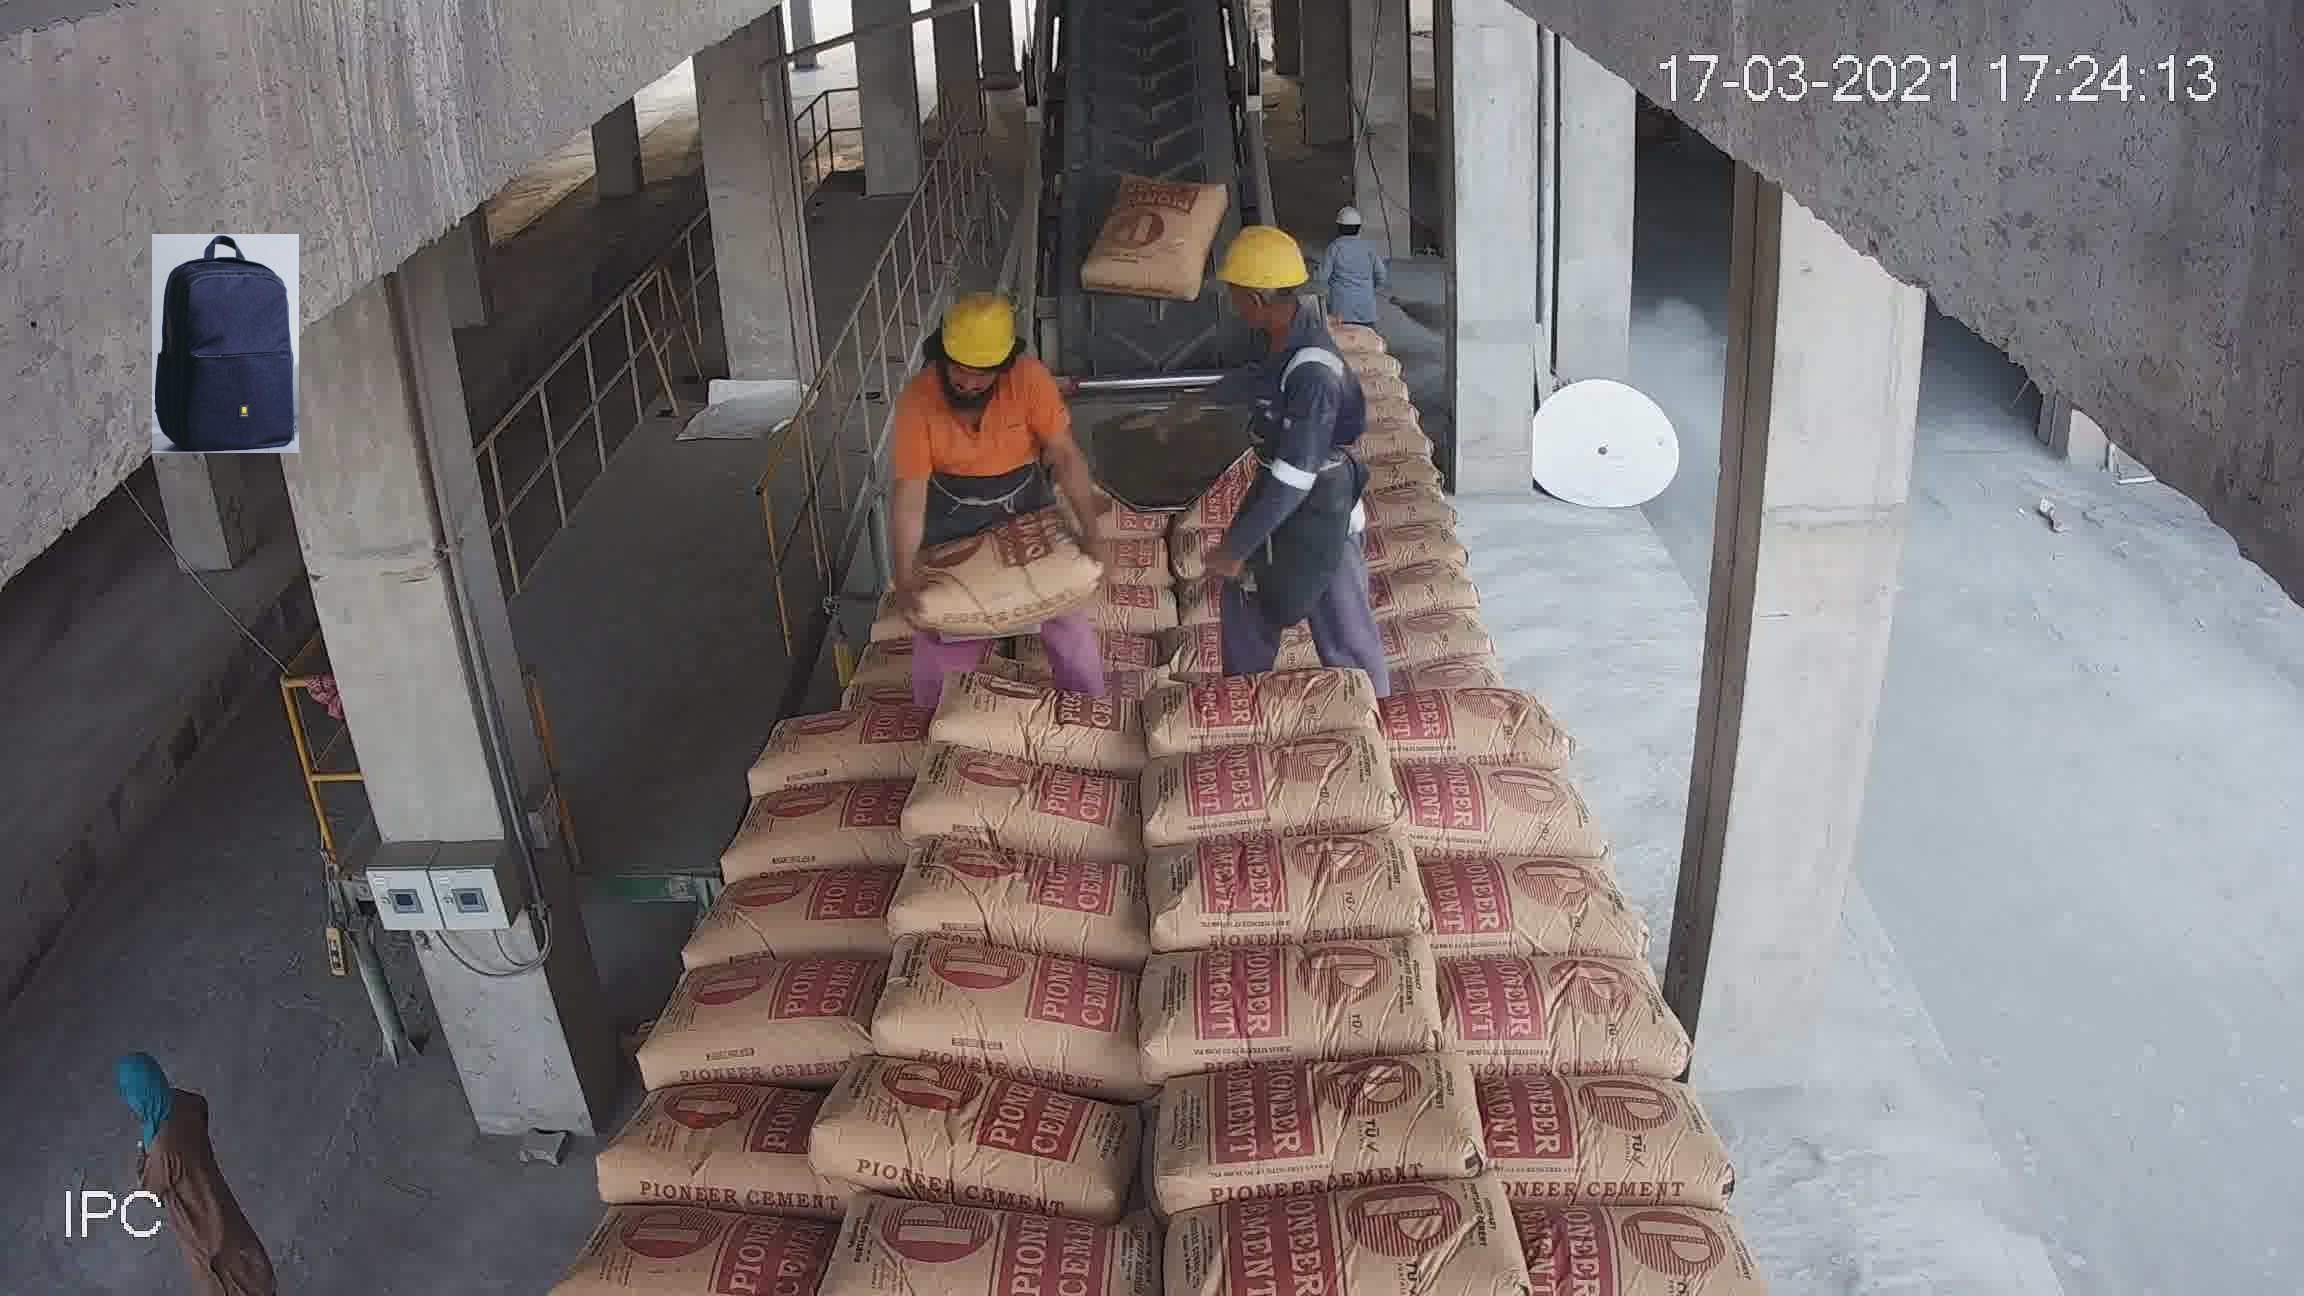bag: (1106, 136, 1214, 260), (1188, 332, 1355, 408)
bag_h: (1155, 1040, 1480, 1215), (1165, 1165, 1532, 1296), (815, 1055, 1144, 1192), (1112, 930, 1453, 1055), (1141, 711, 1429, 840), (862, 949, 1157, 1071), (1446, 1063, 1723, 1190), (1152, 824, 1435, 946), (824, 1174, 1149, 1280), (552, 1176, 836, 1296), (892, 839, 1144, 965), (587, 1065, 831, 1193), (1135, 654, 1399, 769), (1510, 1176, 1760, 1291), (915, 663, 1184, 769), (1440, 957, 1688, 1062), (888, 760, 1157, 850), (1158, 581, 1400, 679), (630, 943, 889, 1032), (1383, 764, 1603, 866), (722, 704, 929, 799), (1438, 858, 1631, 954), (692, 862, 889, 954), (954, 612, 1184, 684), (780, 646, 968, 723), (1381, 696, 1575, 767), (725, 782, 911, 847), (1336, 457, 1483, 540), (984, 552, 1158, 620), (1351, 554, 1524, 619), (801, 578, 964, 644), (1396, 612, 1552, 680), (820, 525, 973, 589), (1173, 494, 1347, 548), (1353, 505, 1497, 570), (1146, 451, 1336, 498), (840, 479, 983, 540), (1158, 549, 1362, 590), (1055, 337, 1176, 407), (976, 525, 1147, 571), (965, 468, 1154, 510), (1054, 389, 1185, 427)
belt: (1036, 19, 1245, 305)
